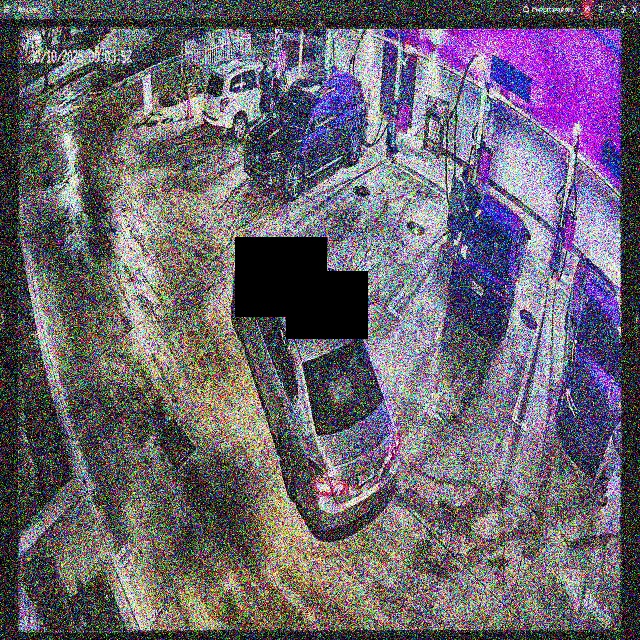Car: (229, 242, 401, 532), (242, 69, 369, 198), (449, 171, 529, 335)
